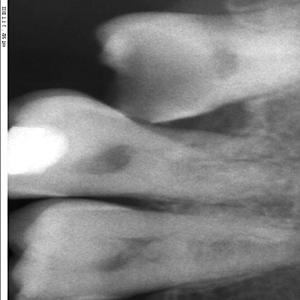tooth: (10, 88, 293, 203), (11, 198, 297, 300), (96, 10, 300, 120)
